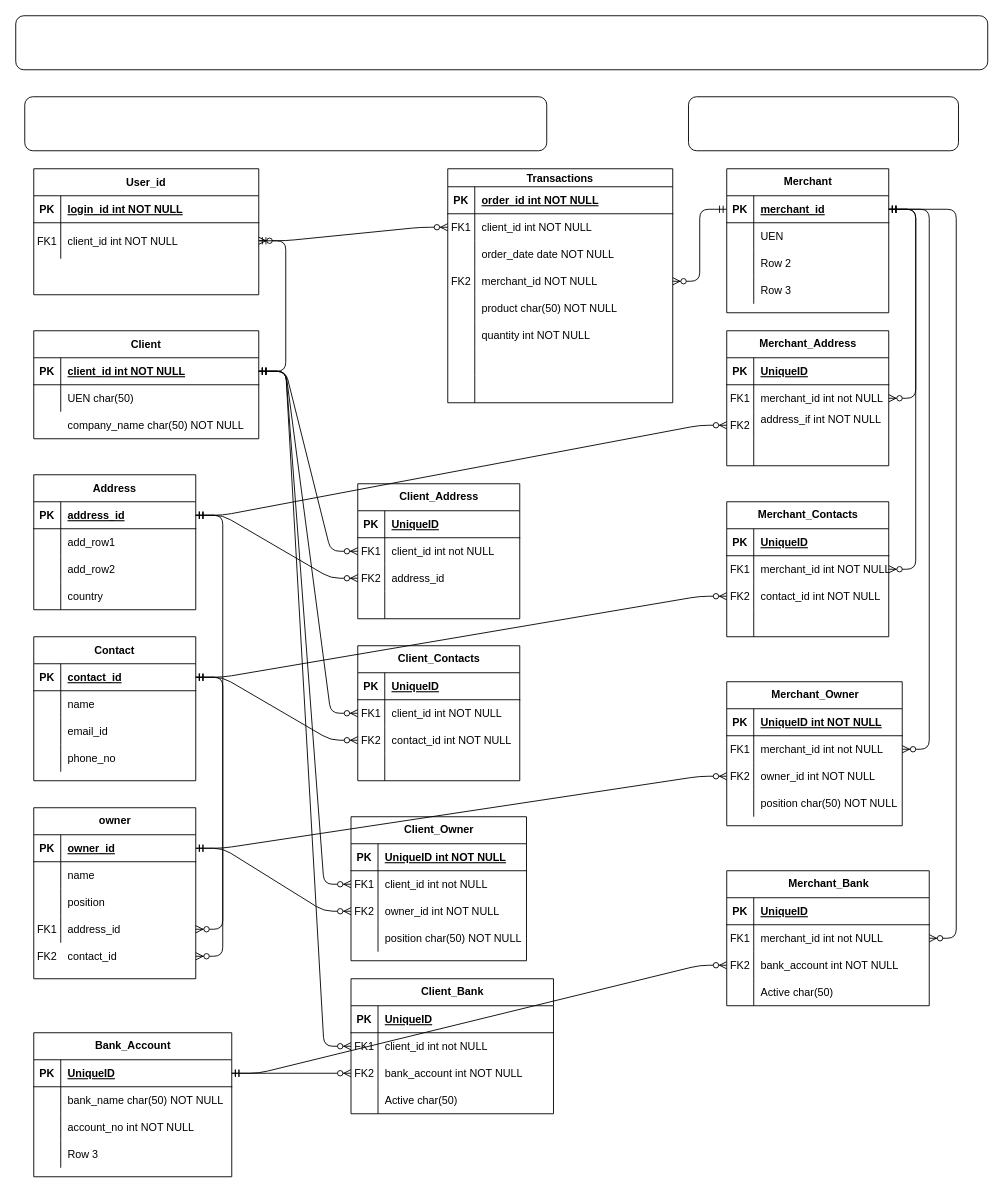
Image size: 1004x1193. Some labels were removed from this diagram. The centre of each missing label's shape, as x and y in pixels:
"Client Objects" belongs at (x=285, y=123).
"Entity Relationship Diagram" belongs at (x=501, y=42).
"Merchant Objects" belongs at (x=823, y=123).
